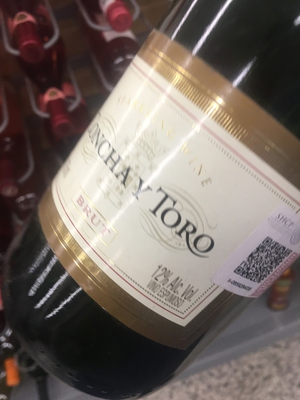brut: (38, 21, 300, 366)
